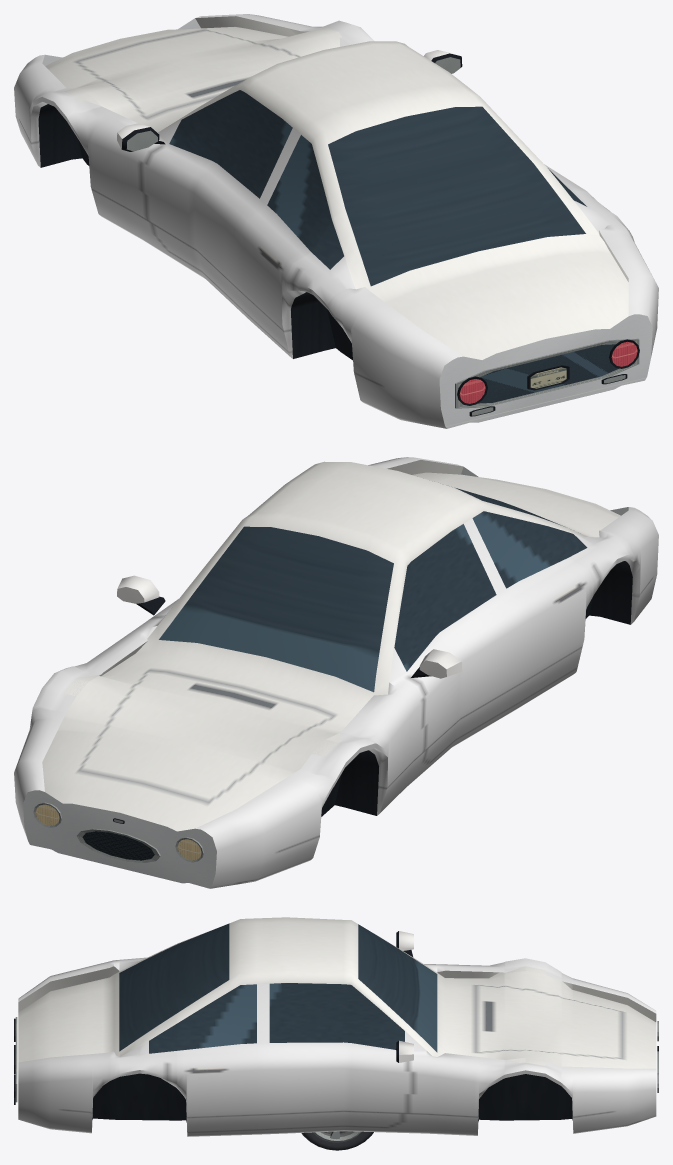
Rendered from alvor_72.glb.
3 renders of one model, top to bottom at view 1: azimuth 30°, elevation 25°; view 2: azimuth 150°, elevation 25°; view 3: azimuth 270°, elevation 25°, orthographic. The views are drawn at different scales.
Visible parts, largest first — view 1: Carroceria_alvor_72; view 2: Carroceria_alvor_72; view 3: Carroceria_alvor_72, Roda_alvor_72.
Part boxes in pixels (x1,y1,x2,y2): Carroceria_alvor_72: (14, 14, 658, 428); Carroceria_alvor_72: (14, 457, 658, 888); Carroceria_alvor_72: (14, 917, 658, 1136); Roda_alvor_72: (301, 1131, 373, 1150).
Size of the model in its own units: 1.93 by 1.52 by 4.23.
6 materials, 6 textured.
